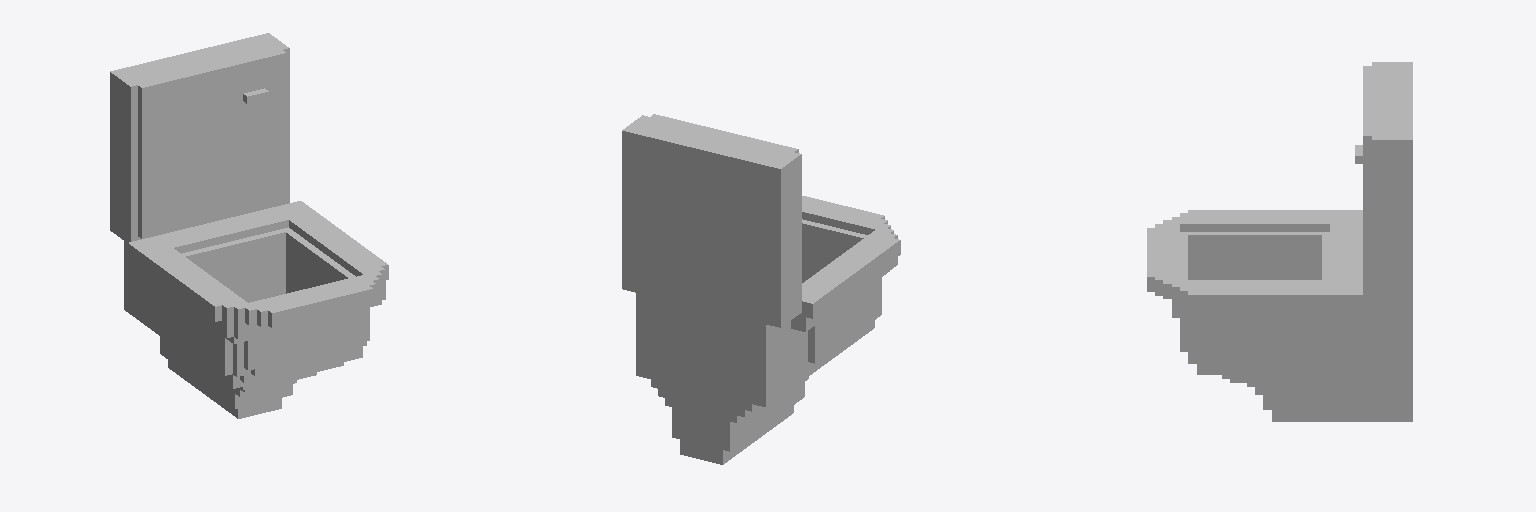
Rendered from Toilet.obj.
3 renders of one model, left to right at view 1: azimuth 30°, elevation 25°; view 2: azimuth 150°, elevation 25°; view 3: azimuth 270°, elevation 25°, orthographic.
Visible parts, largest first — view 1: Toilet; view 2: Toilet; view 3: Toilet.
Part boxes in pixels (left/top/right/bottom): Toilet: left=110, top=33, right=388, bottom=418; Toilet: left=622, top=114, right=900, bottom=464; Toilet: left=1147, top=62, right=1412, bottom=421.
Size of the model in its own units: 24 by 41 by 32.